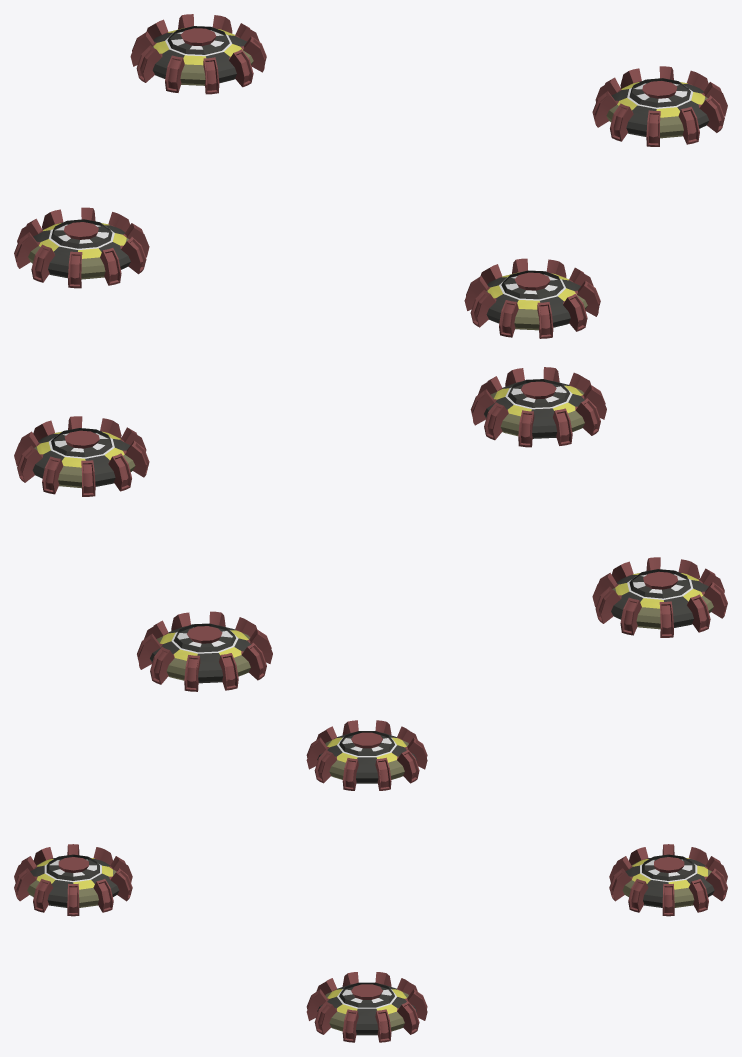
File: ring blade model.fbx
3 renders of one model, top to bottom at view 1: azimuth 30°, elevation 25°; view 2: azimuth 150°, elevation 25°; view 3: azimuth 270°, elevation 25°, orthographic. The views are drawn at different scales.
Parts seen in each view (by area): view 1: pSphere10; view 2: pSphere10; view 3: pSphere10.
Boxes of the visible parts, x1,y1,x2,y2 form: pSphere10: [14, 14, 727, 338]; pSphere10: [14, 367, 727, 691]; pSphere10: [14, 720, 727, 1042].
Bounding box in the file's own units: 1252 × 65.84 × 1252.
